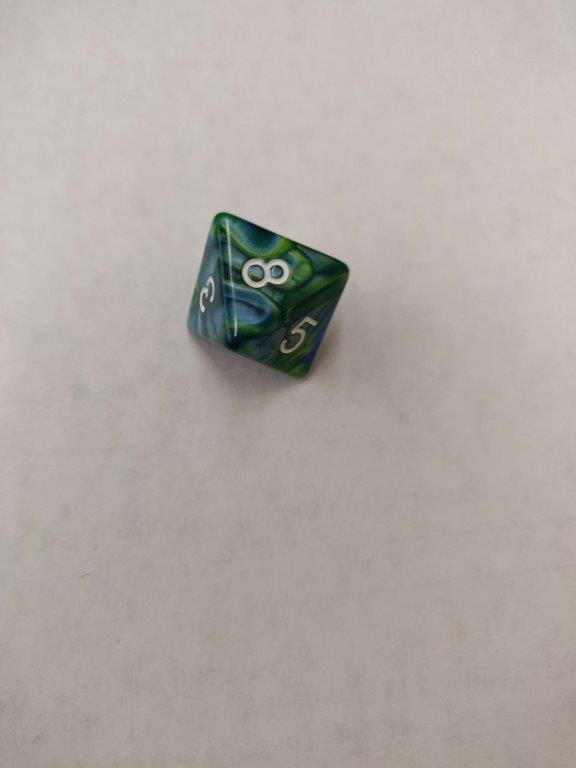d8-8: (185, 209, 351, 380)
